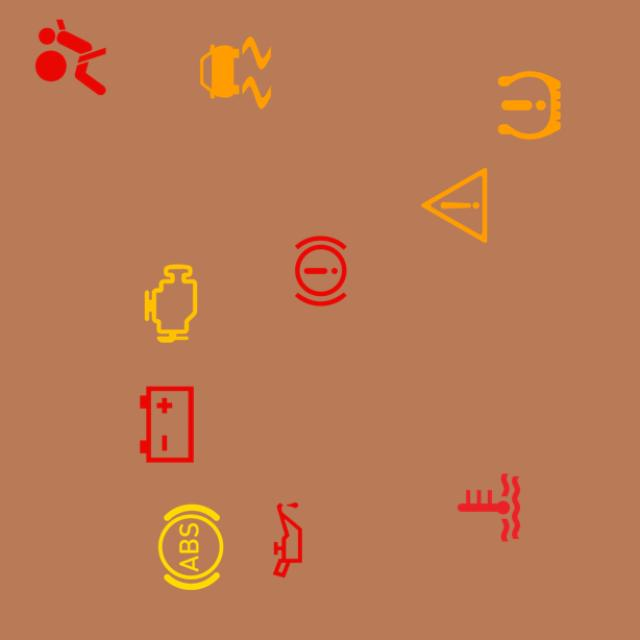Anti Lock Braking System: (144, 500, 238, 594)
Braking System Issue: (274, 224, 368, 318)
Charging System Issue: (120, 377, 214, 471)
Check Engine: (124, 256, 218, 351)
Electronic Stability Problem -ESP-: (188, 26, 282, 120)
Engine Overheating Warning Light: (442, 460, 536, 554)
Low Engine Oil Warning Light: (240, 493, 334, 587)
Low Tire Pressure Warning Light: (482, 59, 576, 152)
Master warning light: (408, 158, 502, 252)
SRS-Airbag: (24, 10, 118, 104)
